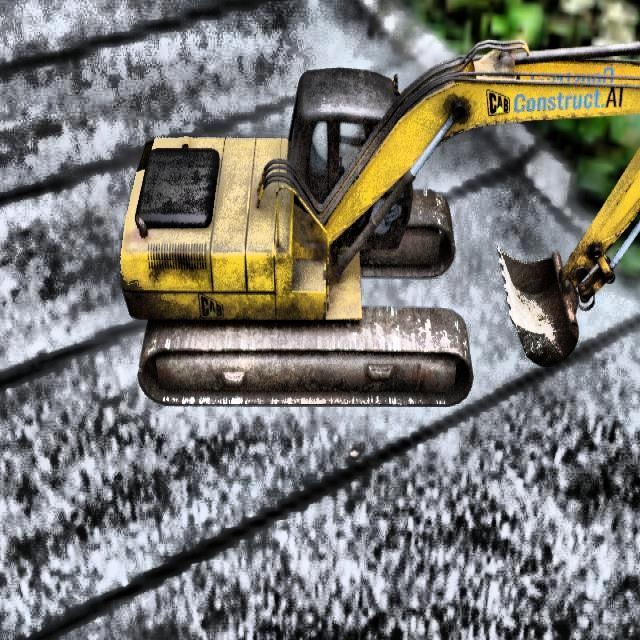excavator: (120, 39, 640, 407)
